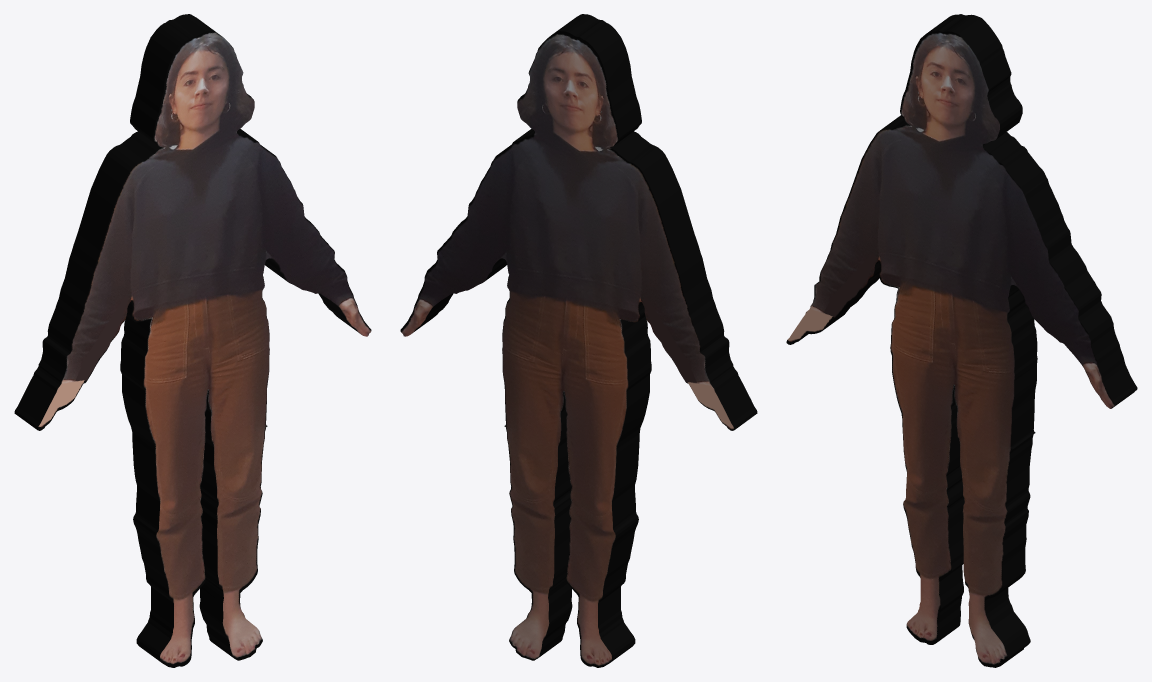
Rendered from alice_anim.gltf.
The picture shows the model from 3 angles, left to right: view 1: azimuth 30°, elevation 25°; view 2: azimuth 150°, elevation 25°; view 3: azimuth 330°, elevation 25°; orthographic projection.
Visible parts, largest first — view 1: Curve.001; view 2: Curve.001; view 3: Curve.001.
Boxes of the visible parts, box(x1,y1,x2,y2) form: Curve.001: box(14, 14, 371, 667); Curve.001: box(400, 14, 757, 667); Curve.001: box(786, 14, 1137, 667).
Size of the model in its own units: 0.3501 by 0.6381 by 0.0419.
1 material, 1 textured.
